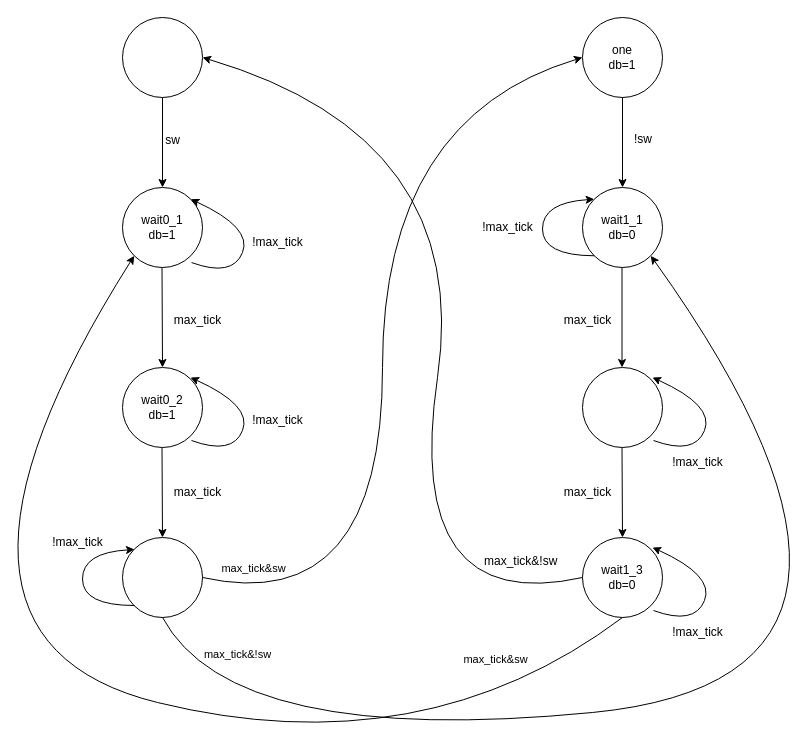
This 807x740 diagram has some shape labels left out. The centre of each missing label's shape, as x and y in pixels:
"wait0_3 db=1" belongs at (162,577).
"wait1_2 db=0" belongs at (622,407).
"zero db=0" belongs at (162,57).
